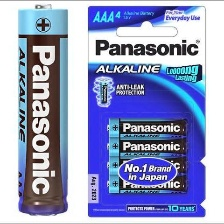battery: (14, 2, 74, 220), (104, 117, 189, 142), (106, 172, 189, 197), (105, 135, 190, 158), (105, 154, 189, 176)
book: (84, 3, 210, 219)
